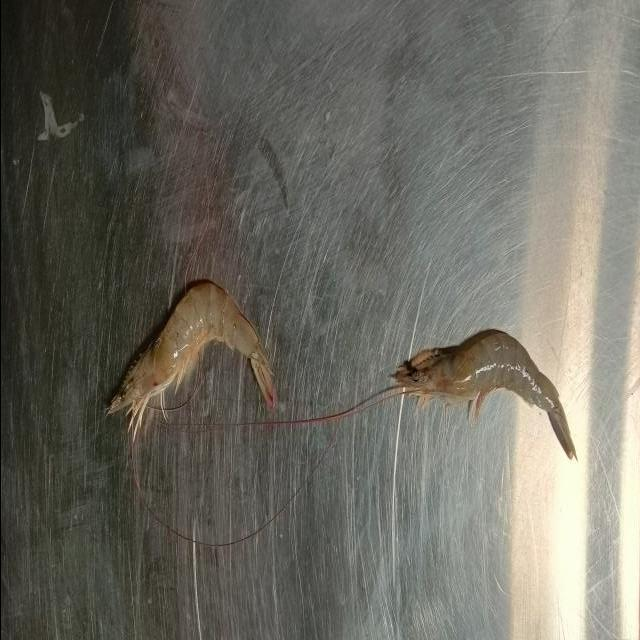shrimp: (390, 329, 577, 460), (106, 281, 276, 418)
